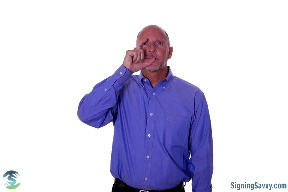drink: (122, 36, 158, 73)
